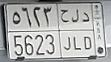2: (32, 6, 44, 55)
3: (44, 5, 56, 56)
5: (12, 11, 23, 55)
6: (22, 5, 34, 58)
D: (82, 10, 92, 50)
J: (60, 9, 71, 53)
L: (72, 8, 81, 52)
